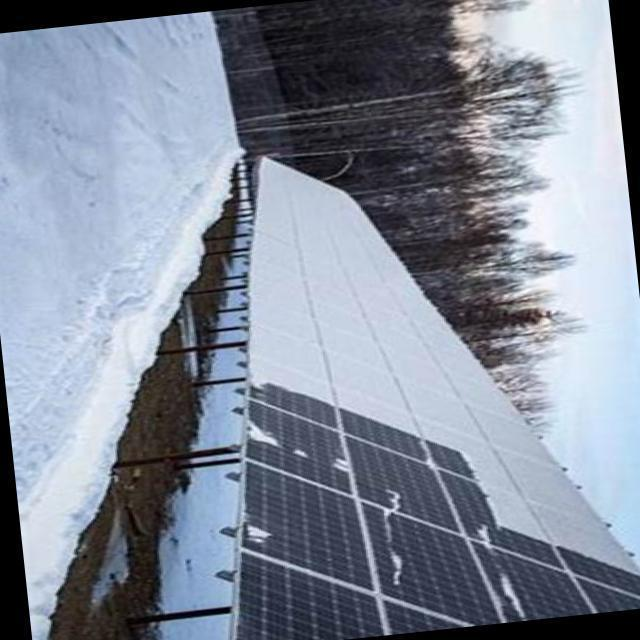Anomaly Solar Panel: (236, 156, 640, 638)
Snow: (250, 152, 640, 572)
